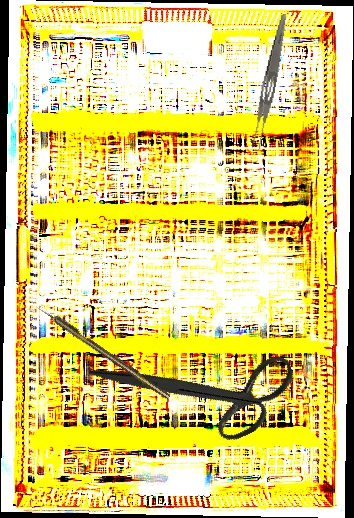Dressing Forceps: (248, 12, 290, 151)
Hook Surgical: (34, 302, 172, 401)
Iris Scissors: (88, 292, 309, 485)
